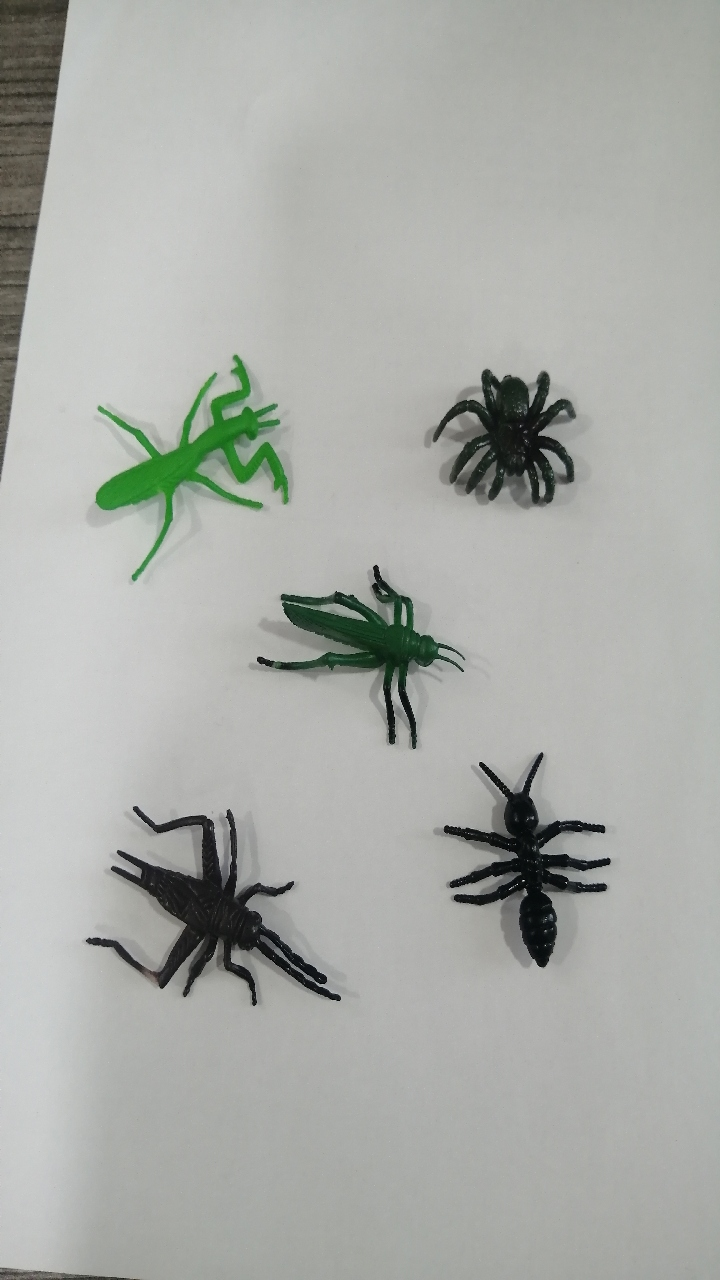intruso: (61, 779, 381, 1065), (54, 337, 320, 582), (431, 743, 638, 982), (249, 554, 469, 763), (392, 351, 594, 548)
